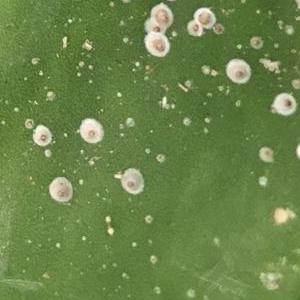Femea: (48, 181, 69, 203), (80, 124, 102, 143), (274, 94, 295, 113), (123, 170, 139, 192), (229, 61, 246, 81), (32, 125, 48, 146), (192, 11, 211, 27), (152, 8, 173, 22), (143, 21, 162, 35), (149, 37, 164, 54)
Linfa: (104, 214, 113, 224), (106, 224, 113, 235)
